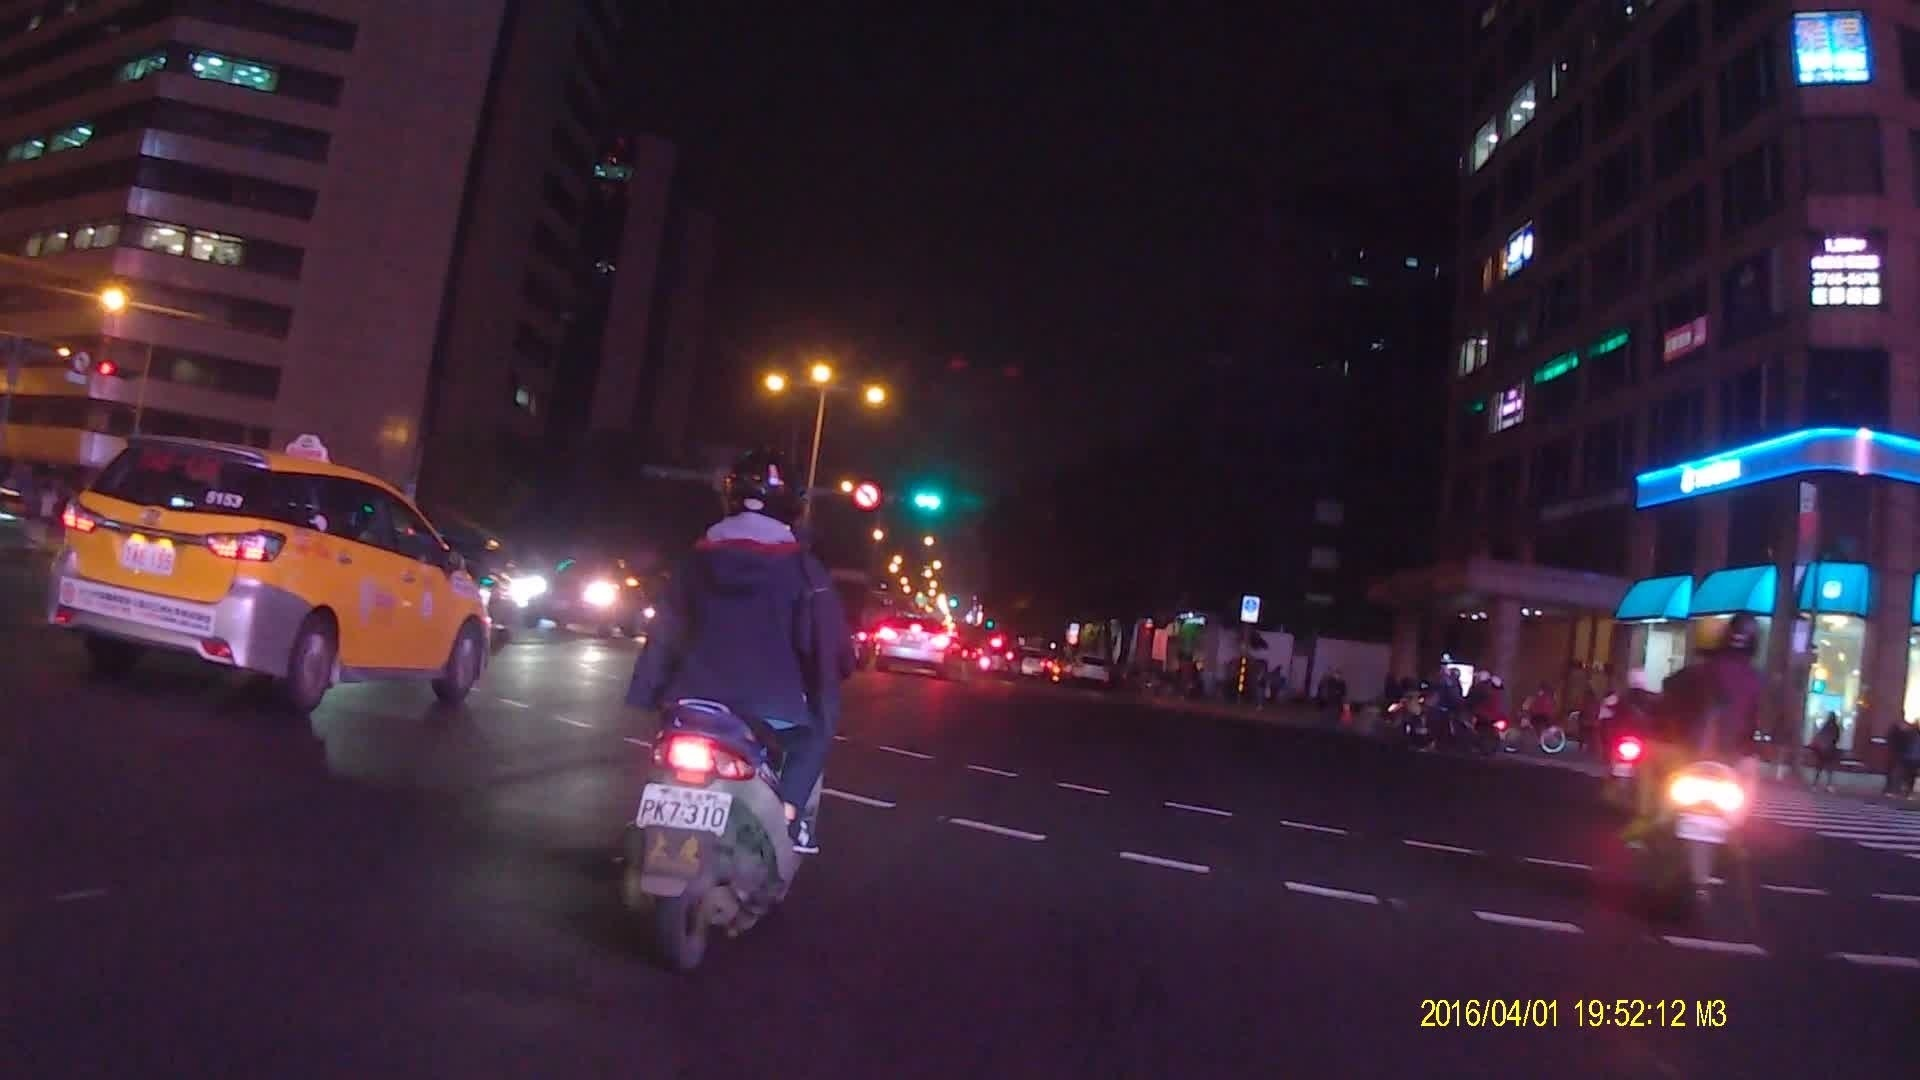License_plate: (637, 777, 731, 835), (126, 534, 176, 577)
